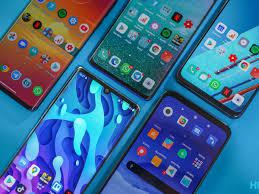Smartphone: (0, 97, 146, 194), (95, 118, 241, 194), (0, 0, 105, 101), (91, 0, 212, 72), (173, 0, 259, 97)
